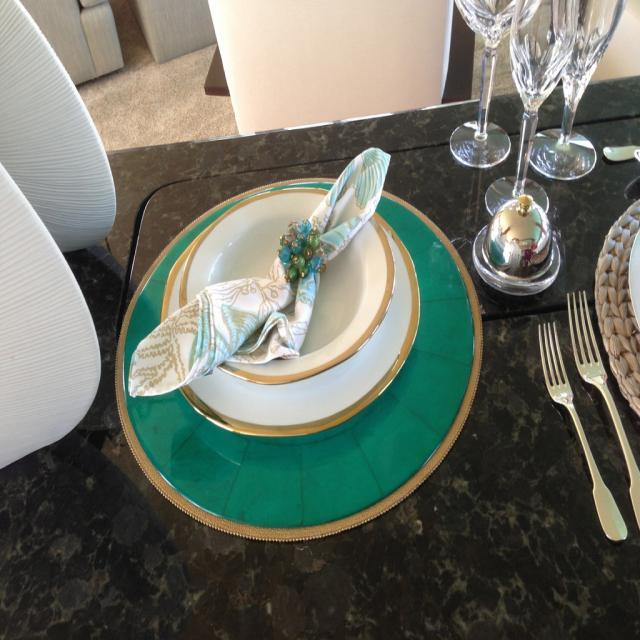ceramic plate: (102, 173, 499, 552)
